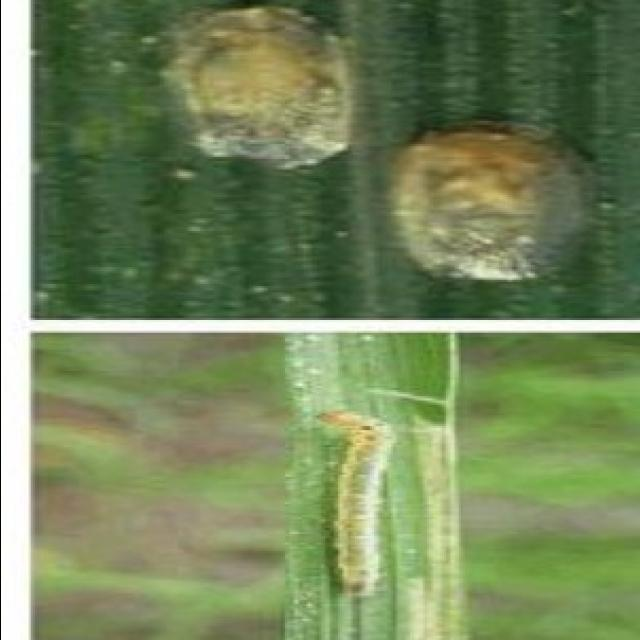rice leaf roller: (390, 121, 587, 280), (369, 326, 466, 640), (167, 6, 354, 167), (318, 409, 394, 600)
